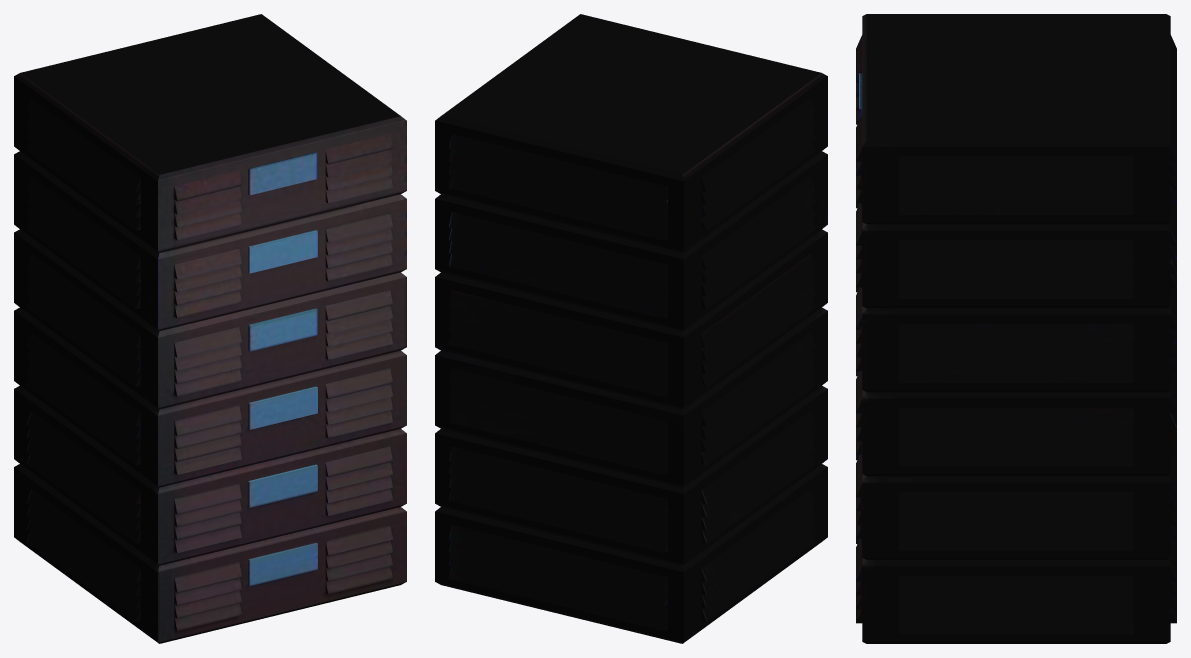
The model's file is servers.glb.
3 views of the same model, side by side, from view 1: azimuth 30°, elevation 25°; view 2: azimuth 150°, elevation 25°; view 3: azimuth 270°, elevation 25° (orthographic). The views are drawn at different scales.
Parts seen in each view (by area): view 1: servers; view 2: servers; view 3: servers.
Boxes of the visible parts, box(x1,y1,x2,y2) form: servers: box(14, 14, 406, 643); servers: box(435, 14, 827, 643); servers: box(856, 14, 1176, 643).
Size of the model in its own units: 3.7 by 6.4 by 3.7.
1 material, 1 textured.
